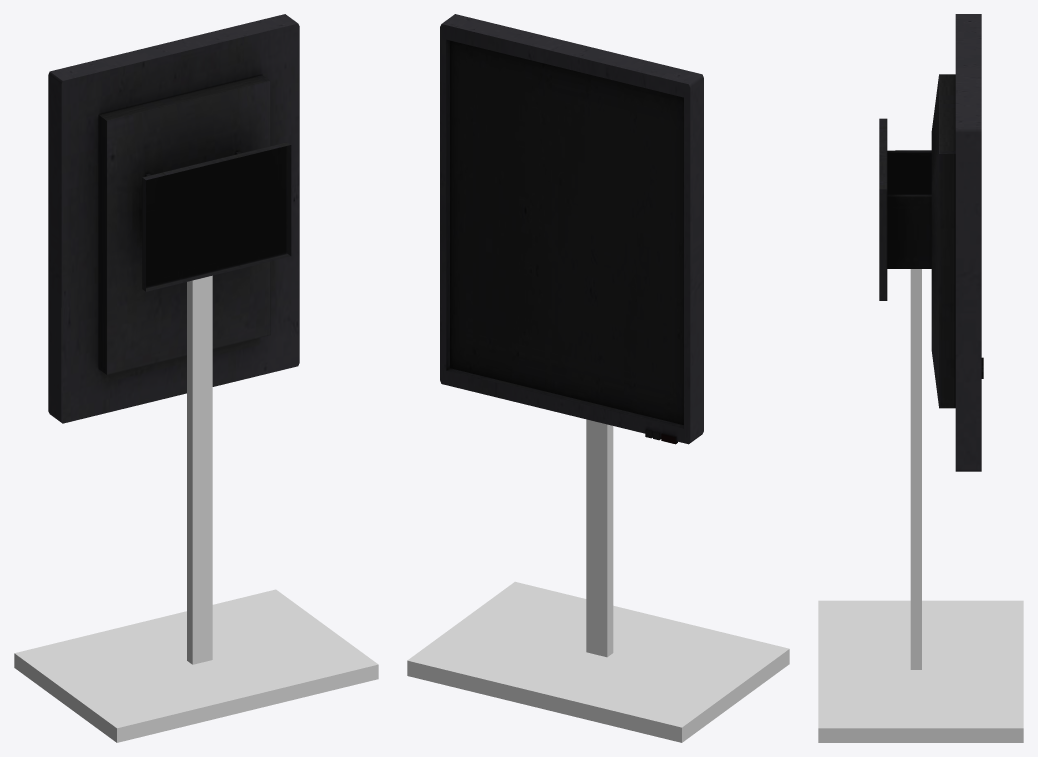
3 renders of one model, left to right at view 1: azimuth 30°, elevation 25°; view 2: azimuth 150°, elevation 25°; view 3: azimuth 270°, elevation 25°, orthographic. The views are drawn at different scales.
Parts seen in each view (by area): view 1: Object_2, Cube.001, Cube; view 2: Object_2, Cube.001, Cube; view 3: Cube.001, Object_2, Cube.
Boxes of the visible parts, bbox=[...] form: Object_2: bbox=[48, 14, 299, 423]; Cube.001: bbox=[14, 589, 378, 742]; Cube: bbox=[187, 275, 212, 664]; Object_2: bbox=[440, 14, 703, 444]; Cube.001: bbox=[407, 581, 789, 742]; Cube: bbox=[586, 419, 613, 657]; Cube.001: bbox=[818, 600, 1023, 742]; Object_2: bbox=[879, 14, 983, 471]; Cube: bbox=[910, 269, 921, 669].
Size of the model in its own units: 2.62 by 5.88 by 1.78.
1 material, 1 textured.
